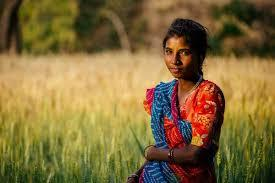Human: (121, 11, 222, 183)
